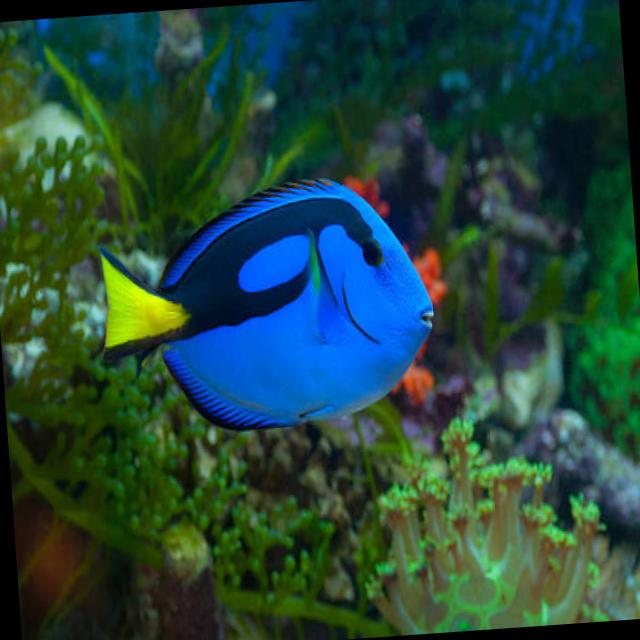TangFish: (88, 170, 446, 436)
